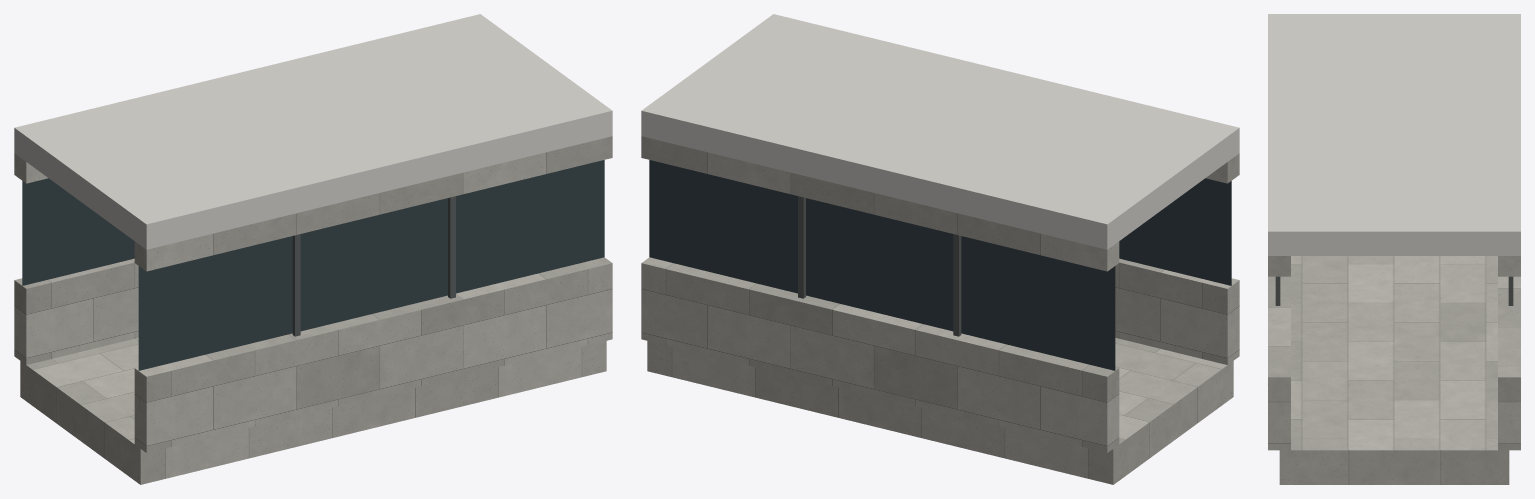
3 renders of one model, left to right at view 1: azimuth 30°, elevation 25°; view 2: azimuth 150°, elevation 25°; view 3: azimuth 270°, elevation 25°, orthographic. The views are drawn at different scales.
Parts seen in each view (by area): view 1: hanaScience-AB__deck, hanaScience-AB__roofing, hanaScience-AB__glass, hanaScience-AB__frame; view 2: hanaScience-AB__deck, hanaScience-AB__roofing, hanaScience-AB__glass, hanaScience-AB__frame; view 3: hanaScience-AB__roofing, hanaScience-AB__deck, hanaScience-AB__frame.
Part boxes in pixels (x1,y1,x2,y2): hanaScience-AB__deck: (14,136,612,484); hanaScience-AB__roofing: (14,14,612,249); hanaScience-AB__glass: (22,160,604,370); hanaScience-AB__frame: (292,196,455,336); hanaScience-AB__deck: (641,136,1239,484); hanaScience-AB__roofing: (641,14,1239,249); hanaScience-AB__glass: (649,160,1231,370); hanaScience-AB__frame: (798,196,961,336); hanaScience-AB__roofing: (1268,14,1520,255); hanaScience-AB__deck: (1268,256,1520,484); hanaScience-AB__frame: (1275,276,1513,305).
Size of the model in its own units: 6.72 by 3.65 by 3.3.
Materials: 4 (1 with a texture image).
